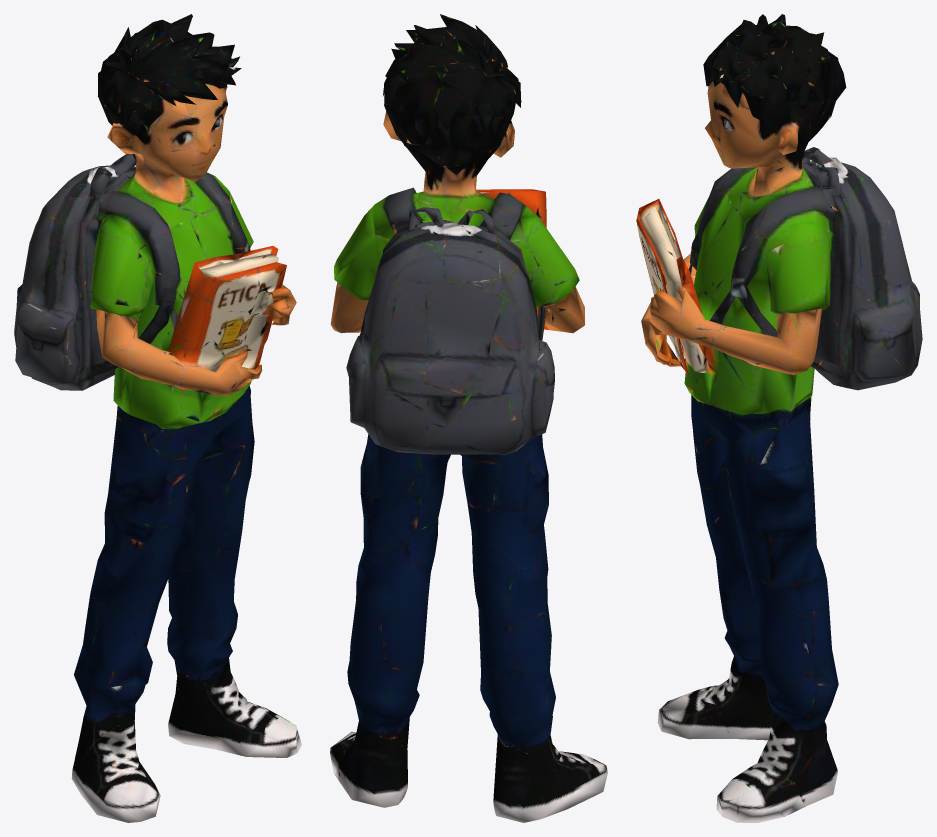
The model's file is estudante_ra.glb.
3 renders of one model, left to right at view 1: azimuth 30°, elevation 25°; view 2: azimuth 150°, elevation 25°; view 3: azimuth 270°, elevation 25°, orthographic. The views are drawn at different scales.
Visible parts, largest first — view 1: geometry_0; view 2: geometry_0; view 3: geometry_0.
Part boxes in pixels (left/top/right/bottom): geometry_0: left=14, top=14, right=301, bottom=822; geometry_0: left=330, top=14, right=607, bottom=822; geometry_0: left=636, top=14, right=922, bottom=822.
Bounding box in the file's own units: 0.649 × 1.9 × 0.662.
1 material, 1 textured.
